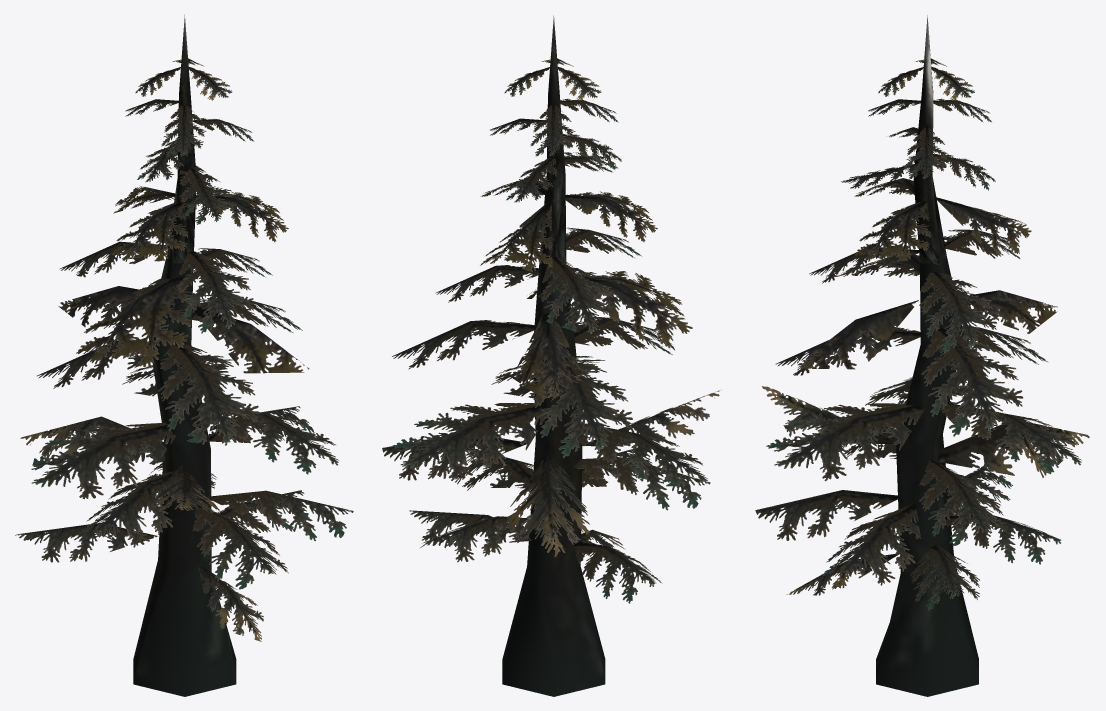
File: FOL_TreePine.FBX
3 renders of one model, left to right at view 1: azimuth 30°, elevation 25°; view 2: azimuth 150°, elevation 25°; view 3: azimuth 270°, elevation 25°, orthographic.
Parts seen in each view (by area): view 1: FOL_TreePine; view 2: FOL_TreePine; view 3: FOL_TreePine.
Boxes of the visible parts, x1,y1,x2,y2 form: FOL_TreePine: (15,14,353,696); FOL_TreePine: (382,15,720,696); FOL_TreePine: (755,15,1089,696).
Bounding box in the file's own units: 414 × 855 × 397.
1 material, 1 textured.
